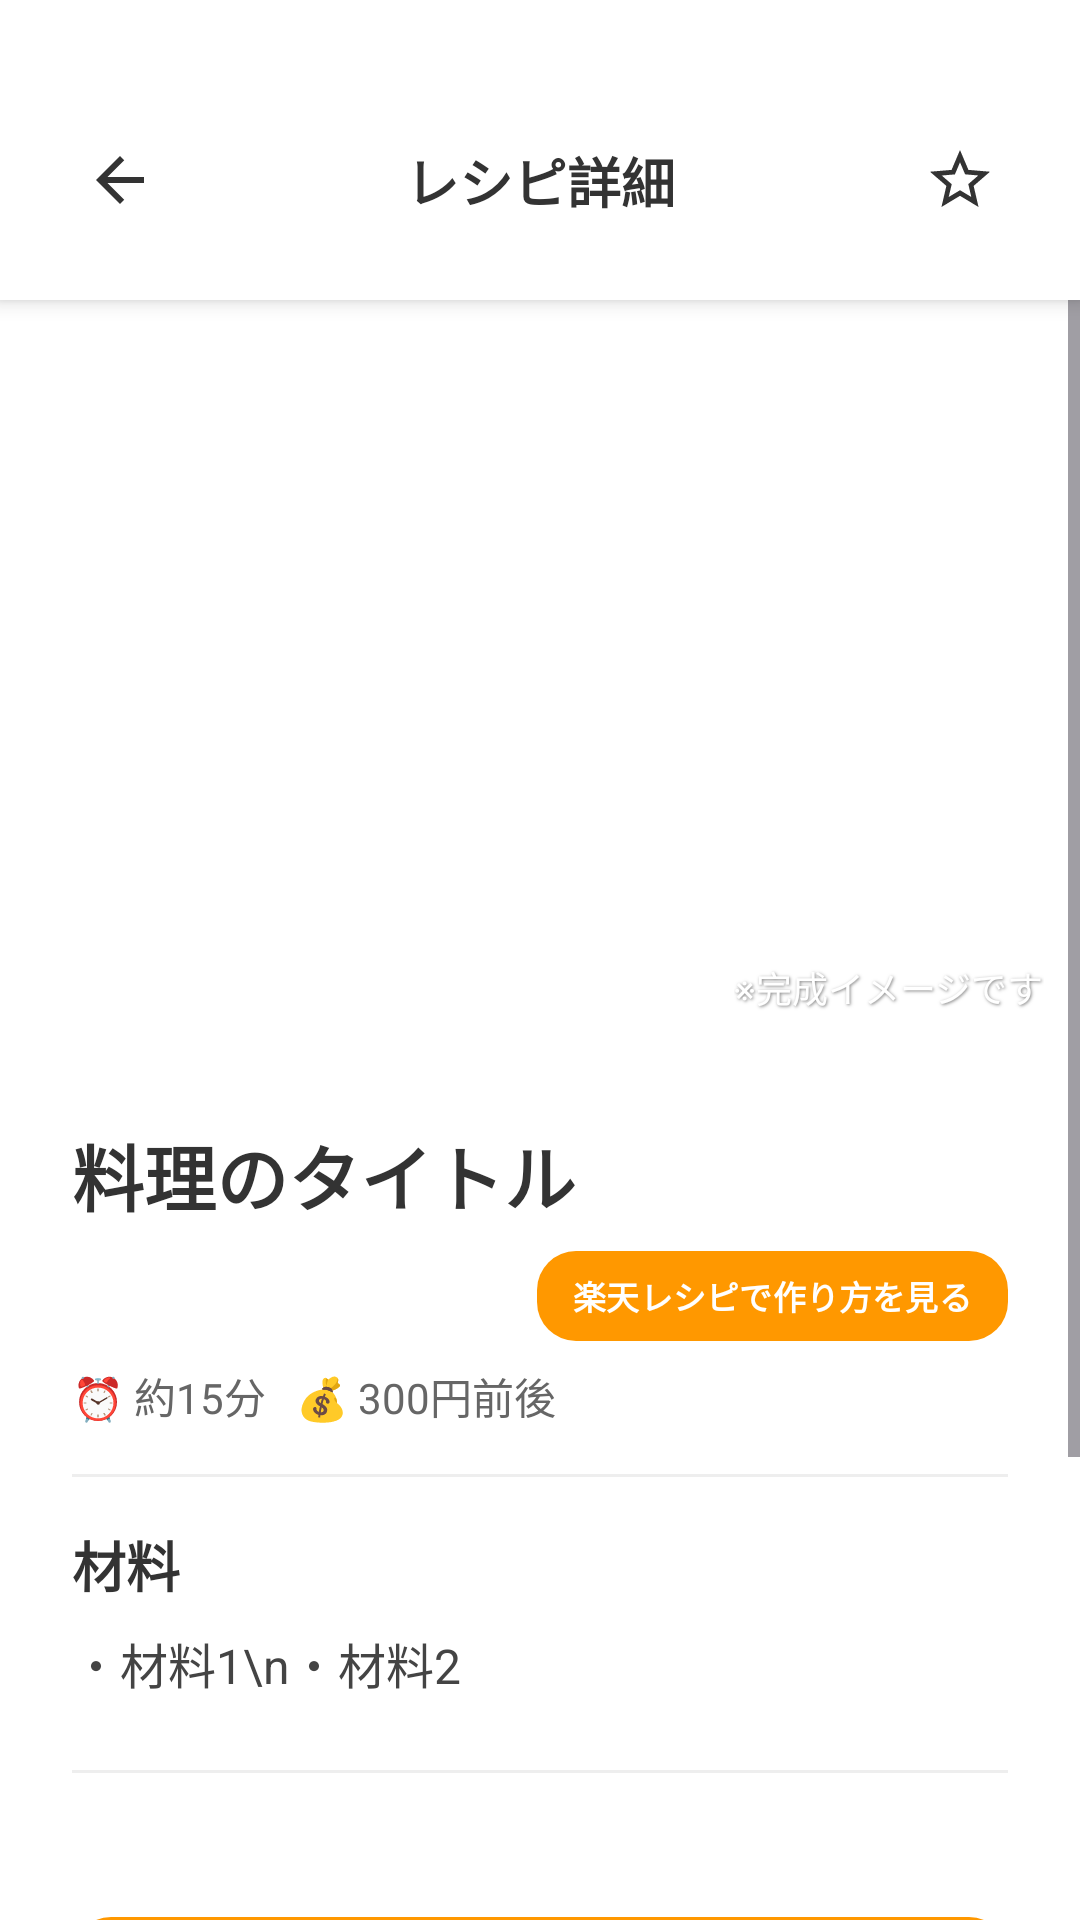

Icons on this 1080×1920 Android screen, each with the point to tap as (x,y):
arrow back: (120,180)
star: (960,178)
